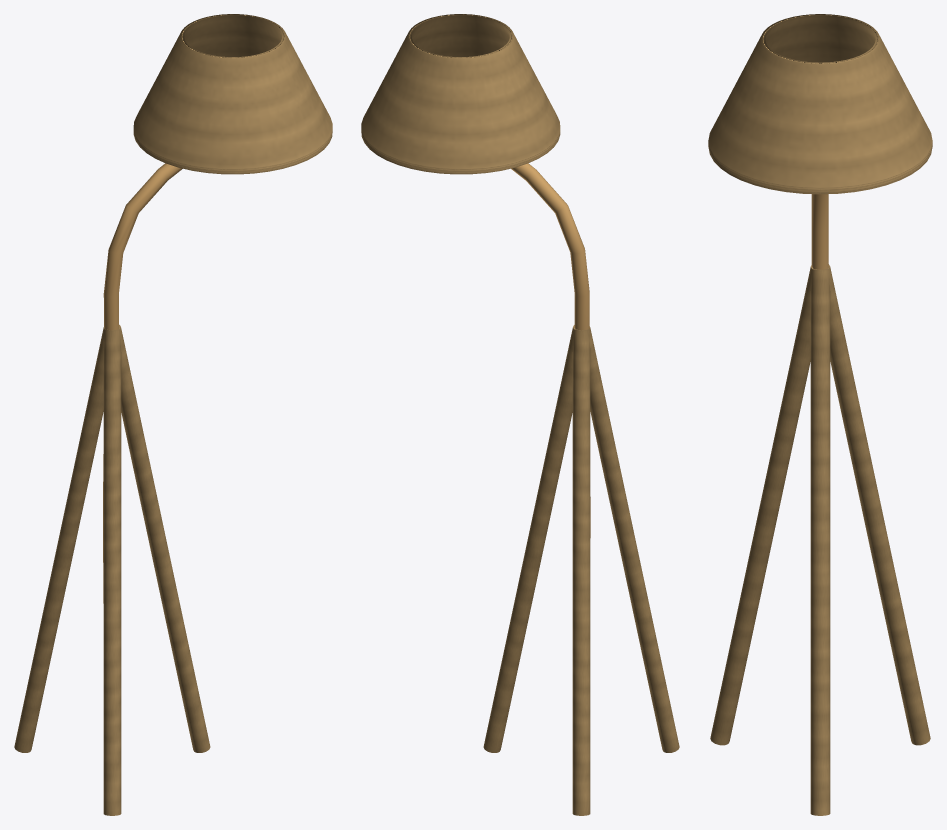
Rendered from floor_lamp_veranda-c3a1903145a5.glb.
3 views of the same model, side by side, from view 1: azimuth 30°, elevation 25°; view 2: azimuth 150°, elevation 25°; view 3: azimuth 270°, elevation 25° (orthographic). The views are drawn at different scales.
Parts seen in each view (by area): view 1: surface_bamboo, surface_brass; view 2: surface_bamboo, surface_brass; view 3: surface_bamboo, surface_brass.
Boxes of the visible parts, x1,y1,x2,y2 form: surface_bamboo: (14,14,332,815); surface_brass: (103,163,182,603); surface_bamboo: (361,14,679,815); surface_brass: (511,163,590,537); surface_bamboo: (708,14,932,815); surface_brass: (811,194,828,269).
Size of the model in its own units: 0.5799 by 1.51 by 0.386.
3 materials, 1 textured.
